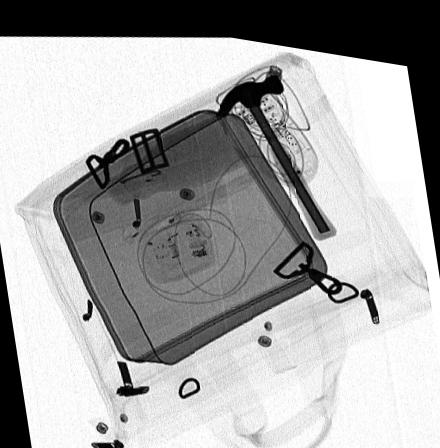Hammer: (214, 65, 336, 230)
